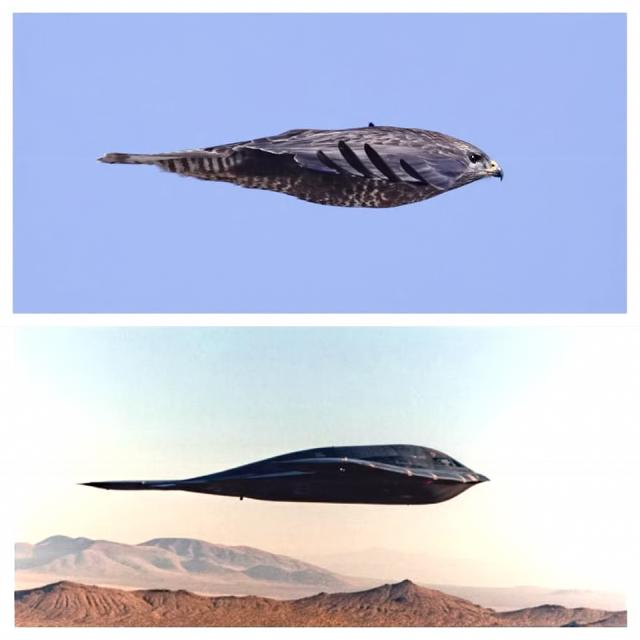MIL_Plane: (75, 444, 491, 506)
